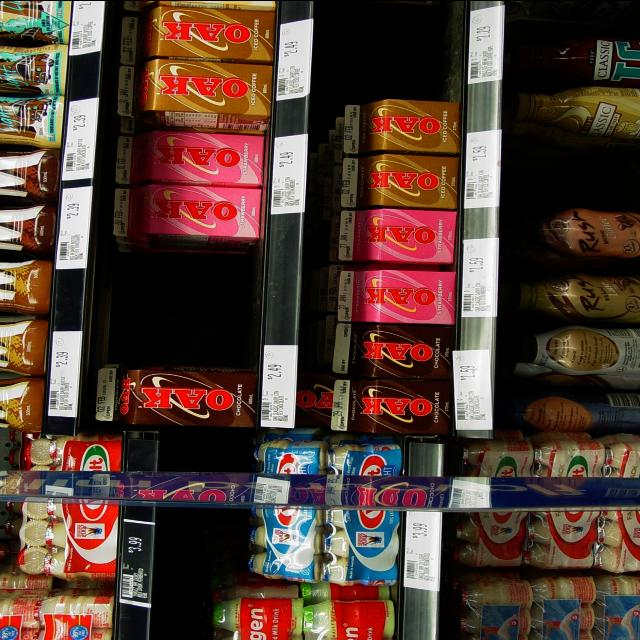empty_space: (117, 261, 247, 356), (339, 12, 453, 94), (521, 152, 640, 200)
